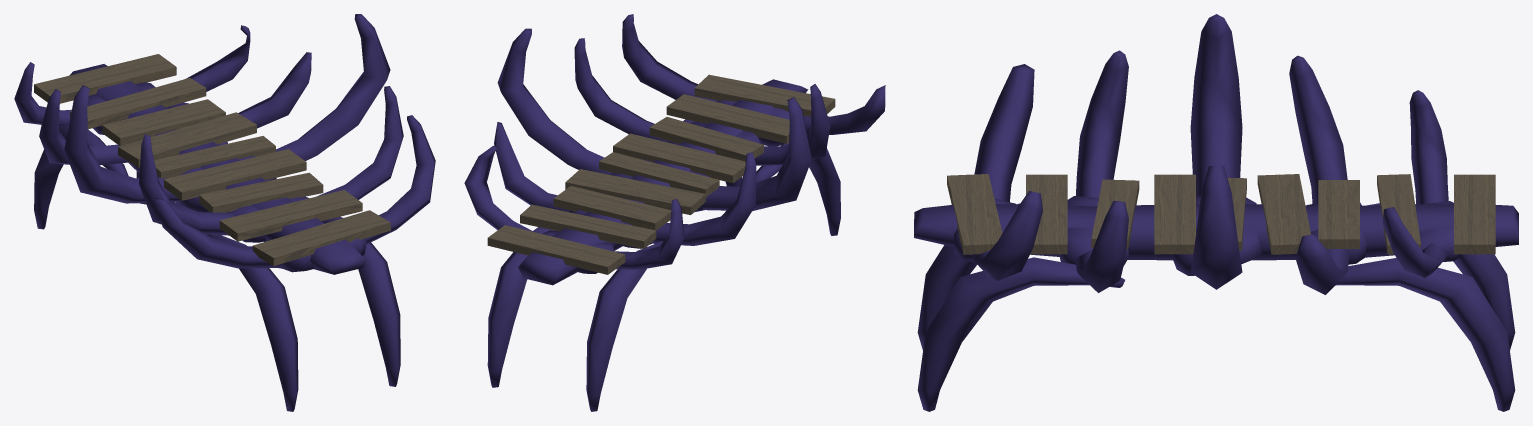
File: Prop_BoneBridge_01.FBX
3 renders of one model, left to right at view 1: azimuth 30°, elevation 25°; view 2: azimuth 150°, elevation 25°; view 3: azimuth 270°, elevation 25°, orthographic. The views are drawn at different scales.
Parts seen in each view (by area): view 1: Prop_BoneBridge_01; view 2: Prop_BoneBridge_01; view 3: Prop_BoneBridge_01.
Boxes of the visible parts, box(x1,y1,x2,y2) form: Prop_BoneBridge_01: box(14, 14, 435, 411); Prop_BoneBridge_01: box(464, 14, 885, 411); Prop_BoneBridge_01: box(914, 14, 1518, 411).
Bounding box in the file's own units: 4.17 × 3.14 × 5.81.
